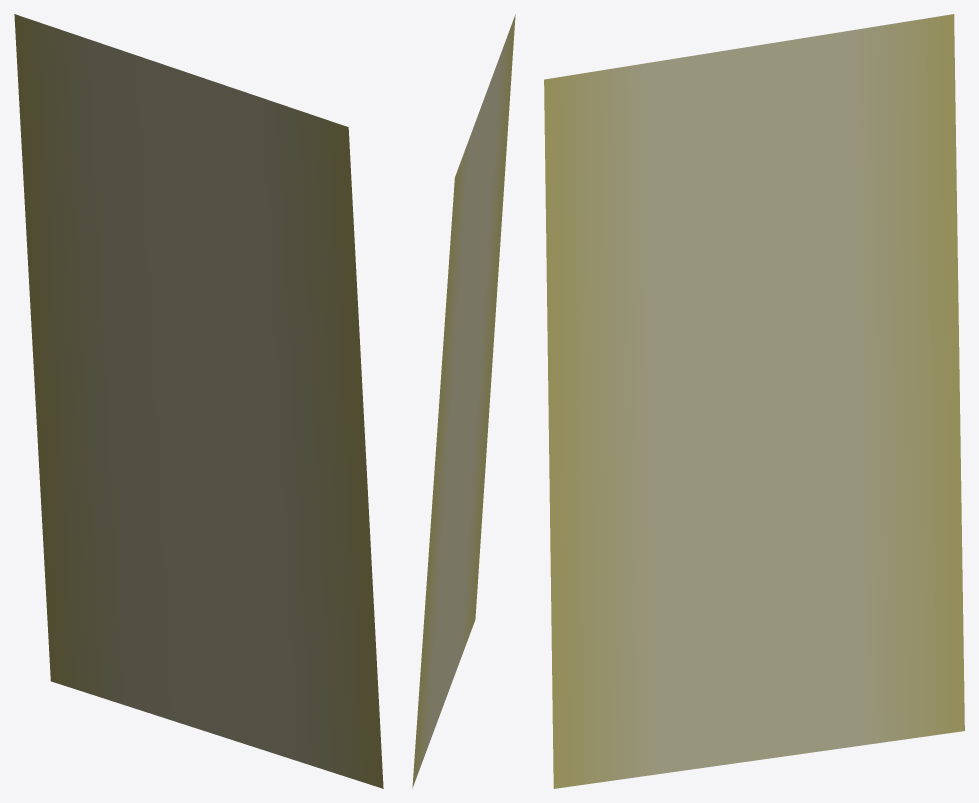
Rendered from WindowLeft3_2.glb.
3 renders of one model, left to right at view 1: azimuth 30°, elevation 25°; view 2: azimuth 150°, elevation 25°; view 3: azimuth 270°, elevation 25°, orthographic. The views are drawn at different scales.
Visible parts, largest first — view 1: WindowLeft3; view 2: WindowLeft3; view 3: WindowLeft3.
Part boxes in pixels (x1,y1,x2,y2): WindowLeft3: (14,14,383,788); WindowLeft3: (412,14,515,788); WindowLeft3: (544,14,964,788).
Bounding box in the file's own units: 0.3395 × 1.28 × 0.699.
